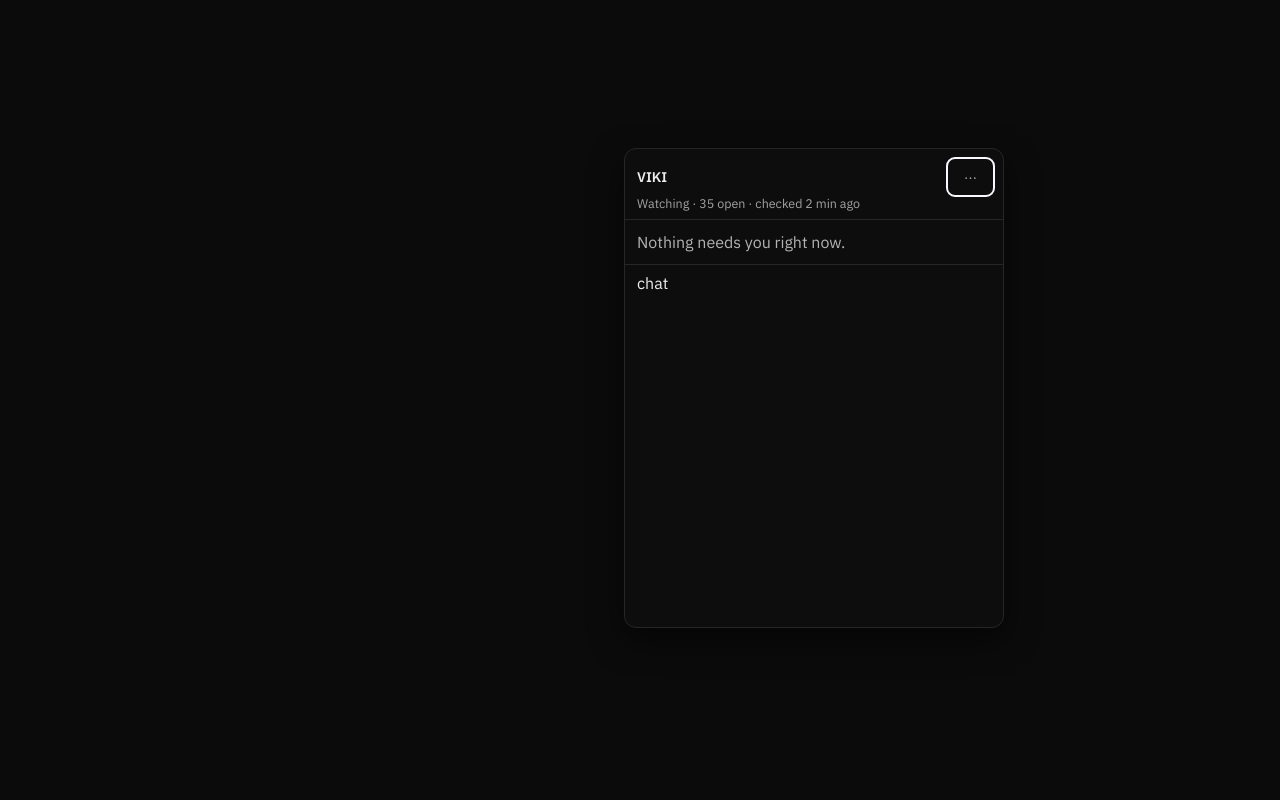
the header menu › on, not paused, no focus: both pause rows, then Focus for 1 hour, then Open Decision
The image size is (1280, 800).
Click the button named "More".
click(970, 177)  # box [950,161,991,193]
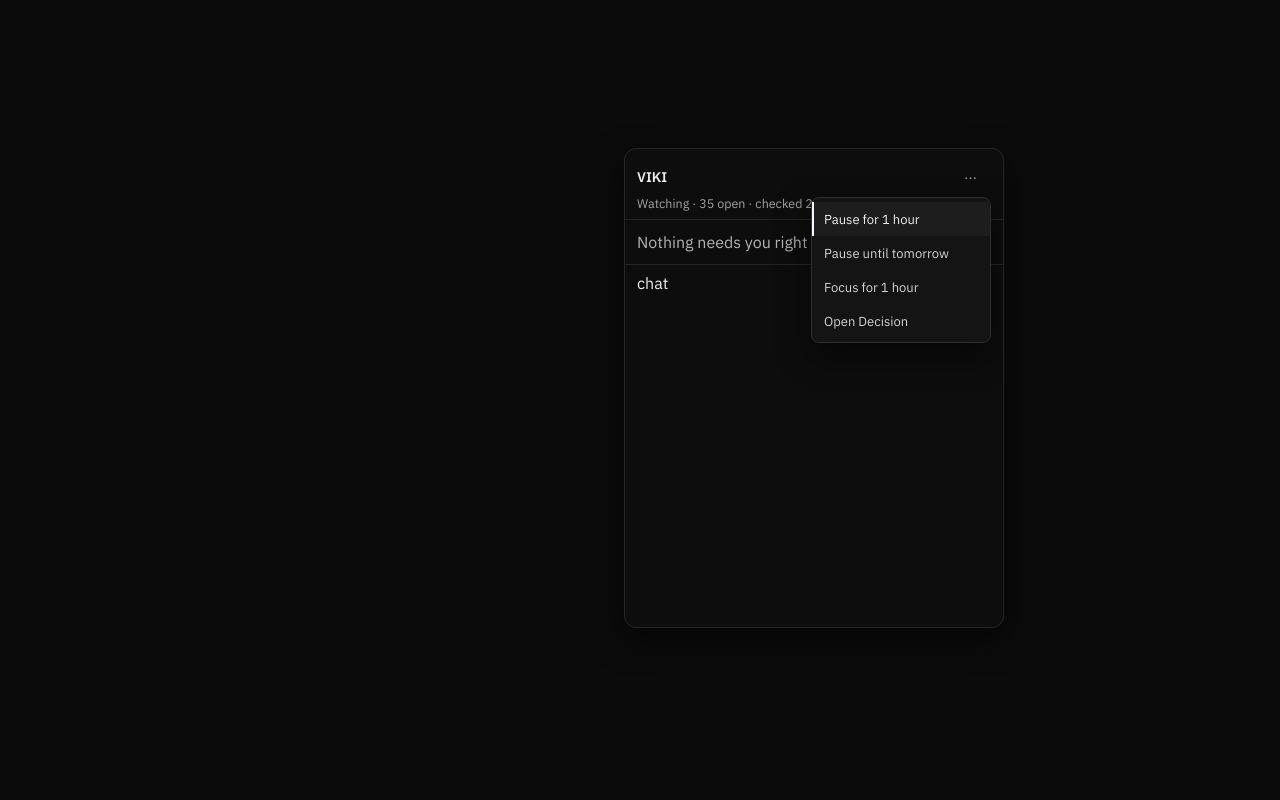
Now the menu items read "Pause for 1 hour", "Pause until tomorrow", "Focus for 1 hour", "Open Decision", in this order, box [812,202,990,236]; [812,236,990,270]; [812,270,990,304]; [812,304,990,338]
